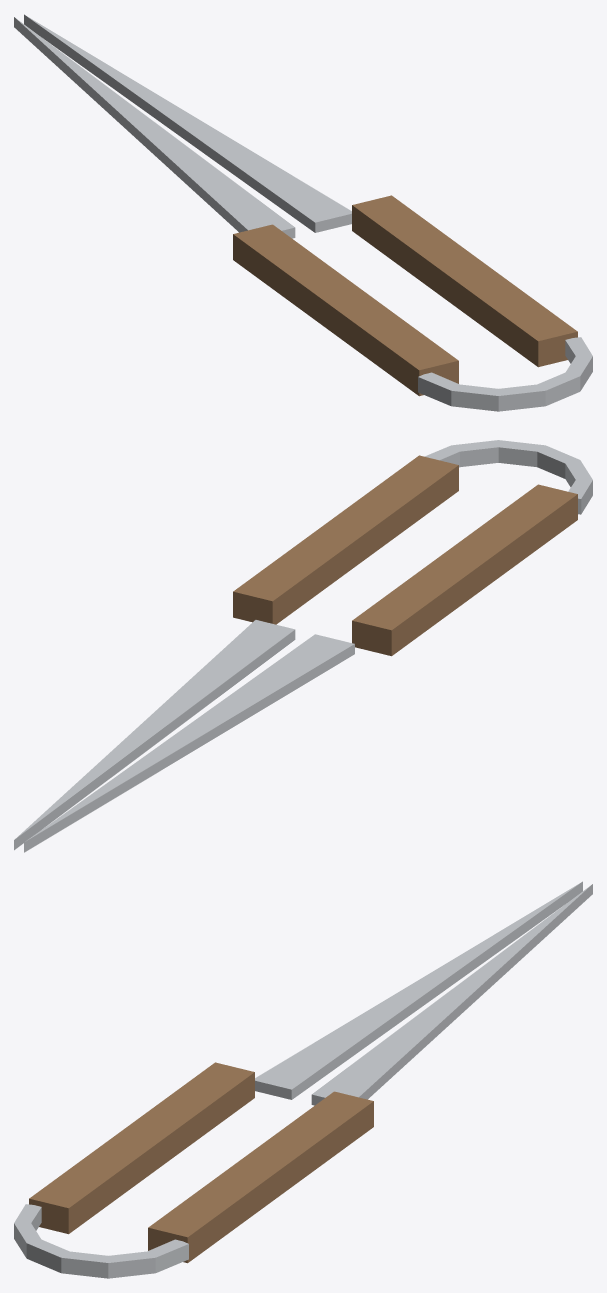
Rendered from prop-furrier-shears.fbx.
3 renders of one model, top to bottom at view 1: azimuth 30°, elevation 25°; view 2: azimuth 150°, elevation 25°; view 3: azimuth 330°, elevation 25°, orthographic.
Visible parts, largest first — view 1: prop-furrier-shears; view 2: prop-furrier-shears; view 3: prop-furrier-shears.
Part boxes in pixels (box(x1,y1,x2,y2)): prop-furrier-shears: box(14, 14, 592, 411); prop-furrier-shears: box(14, 440, 592, 852); prop-furrier-shears: box(14, 881, 592, 1278).
Bounding box in the file's own units: 6.58 × 1 × 36.8.
